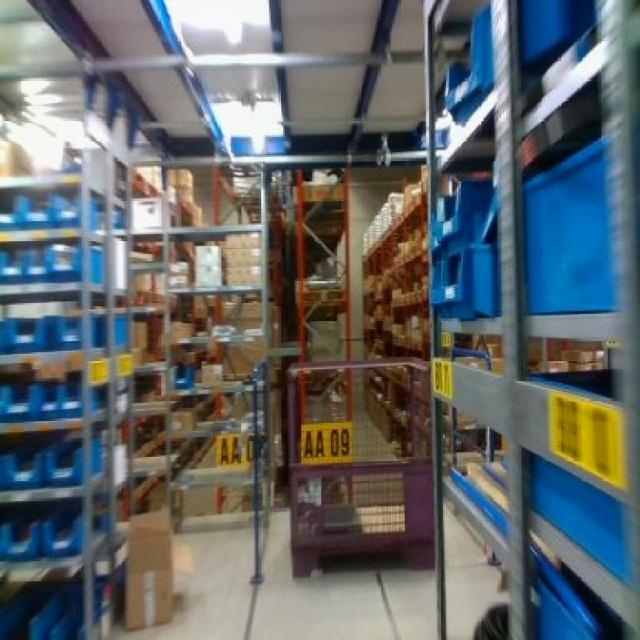pallets: (423, 0, 637, 637), (288, 358, 431, 574)
